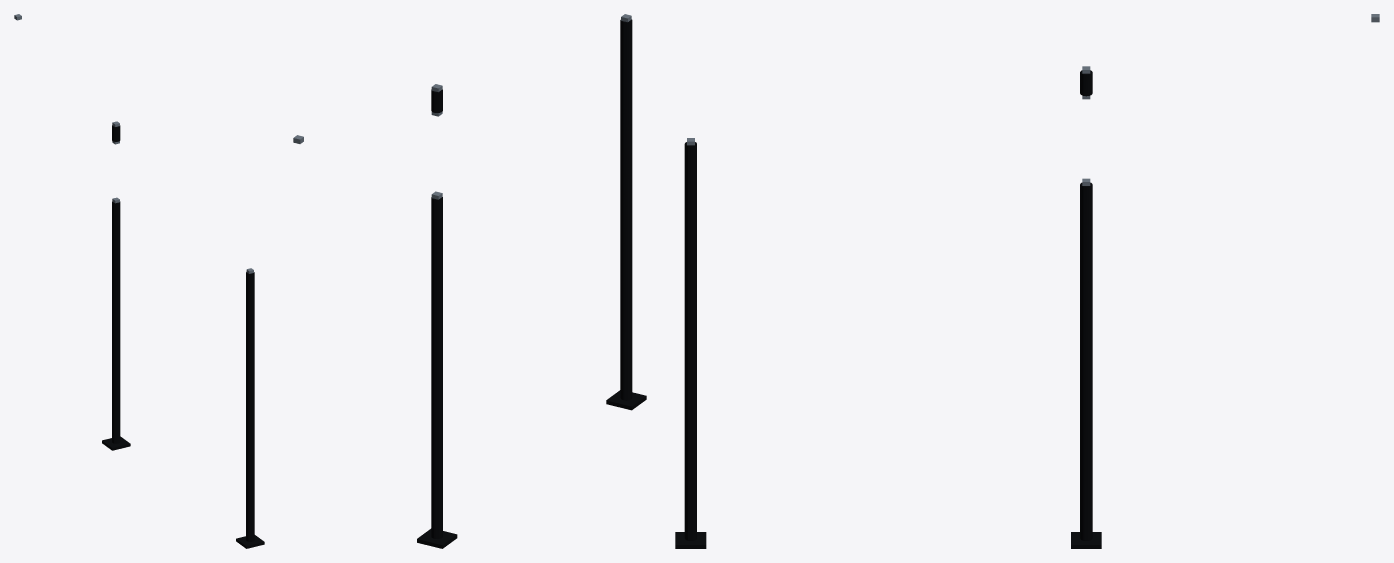
File: tt_leisure_slide_tubes_f.glb
The picture shows the model from 3 angles, left to right: view 1: azimuth 30°, elevation 25°; view 2: azimuth 150°, elevation 25°; view 3: azimuth 270°, elevation 25°; orthographic projection. The views are drawn at different scales.
Parts seen in each view (by area): view 1: Tube_SupportPosts, Tube_Footplate; view 2: Tube_SupportPosts, Tube_Footplate; view 3: Tube_SupportPosts, Tube_Footplate.
Boxes of the visible parts, bbox=[...] form: Tube_SupportPosts: bbox=[112, 125, 254, 541]; Tube_Footplate: bbox=[102, 436, 264, 548]; Tube_SupportPosts: bbox=[431, 19, 632, 538]; Tube_Footplate: bbox=[417, 390, 646, 548]; Tube_SupportPosts: bbox=[684, 70, 1092, 540]; Tube_Footplate: bbox=[675, 532, 1101, 548].
Size of what is drawn, in the model's own units: 0.3 by 5.63 by 6.82.
Materials: 2 (2 with a texture image).
